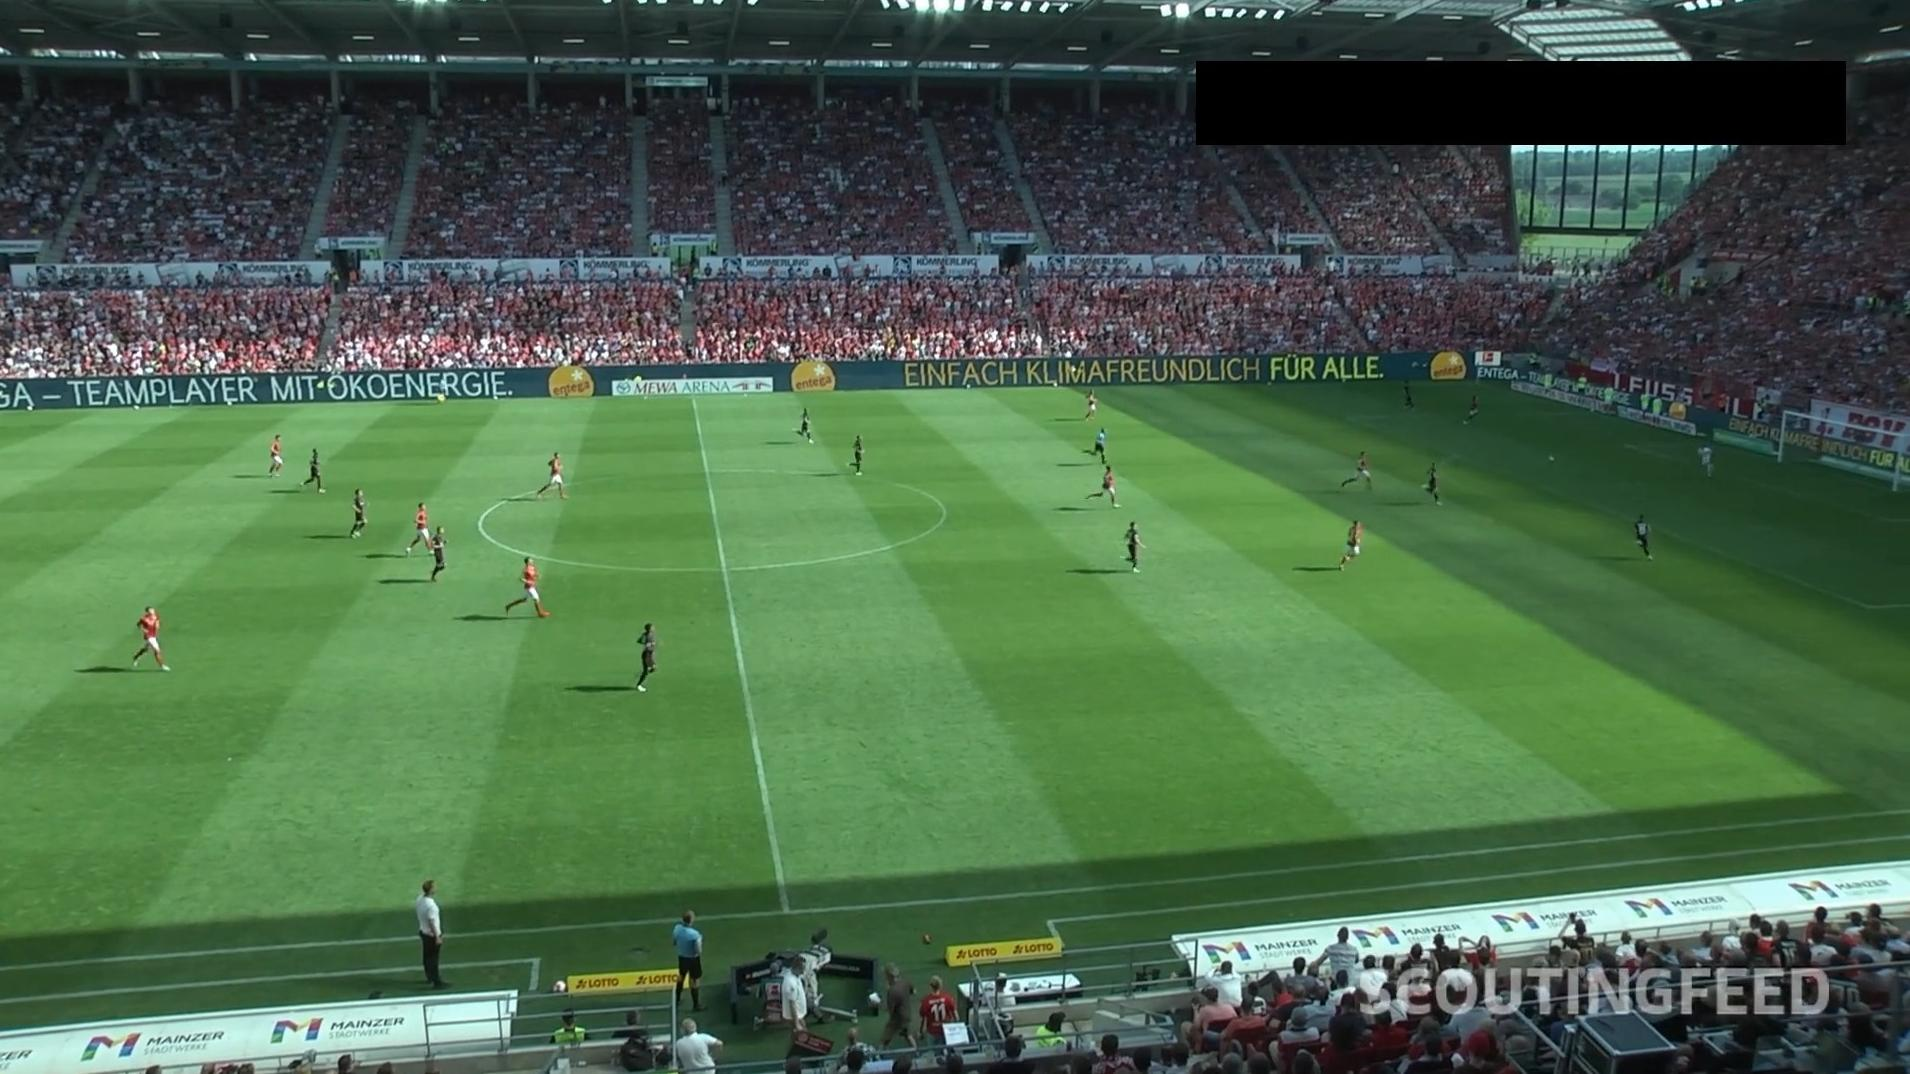ball: (1548, 455, 1556, 462)
